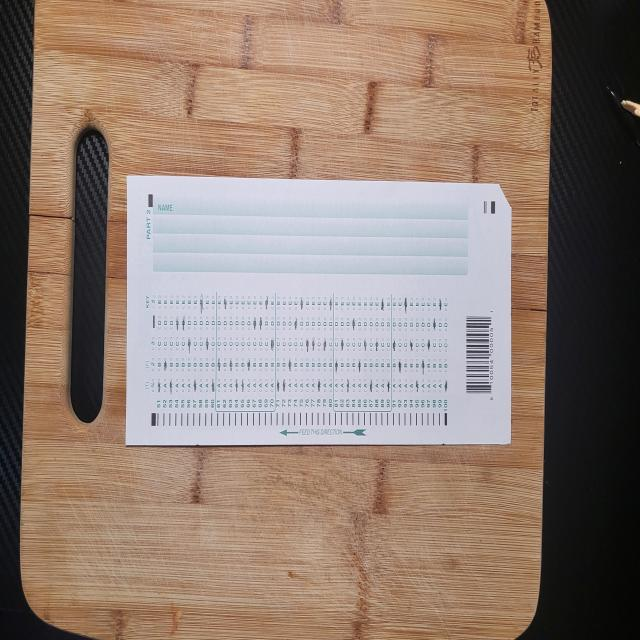scantron_back: (125, 175, 512, 446)
